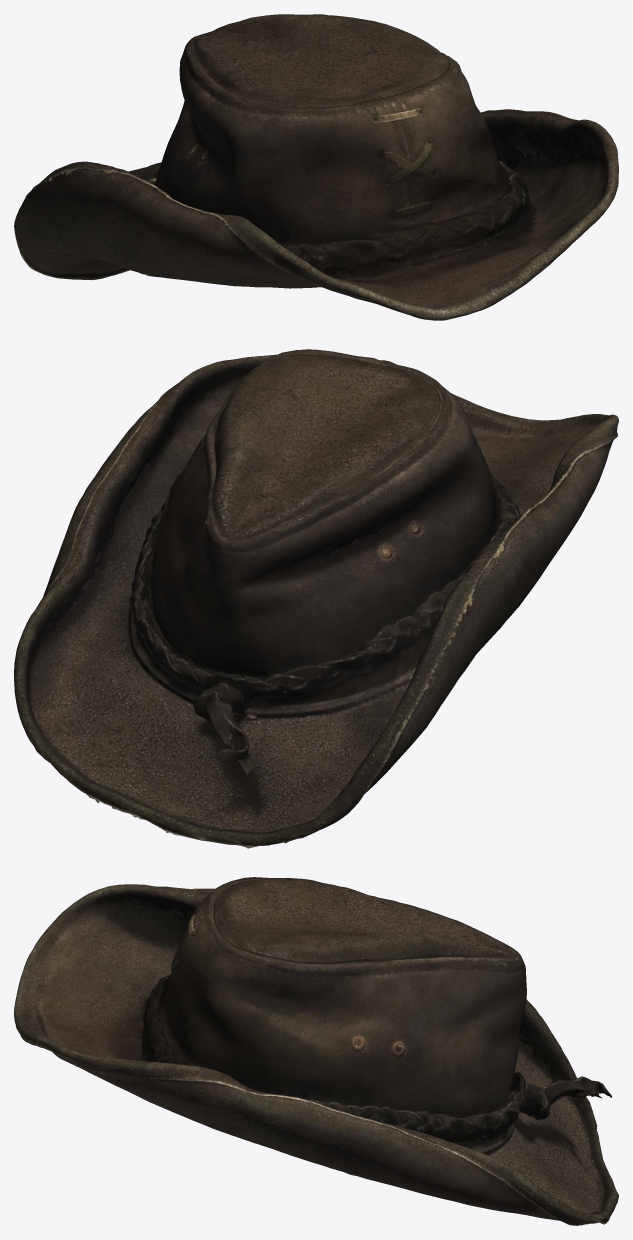
File: hat-web-v1.glb
The picture shows the model from 3 angles, top to bottom: view 1: azimuth 30°, elevation 25°; view 2: azimuth 150°, elevation 25°; view 3: azimuth 270°, elevation 25°; orthographic projection. The views are drawn at different scales.
Parts seen in each view (by area): view 1: Cowboy_Hat; view 2: Cowboy_Hat; view 3: Cowboy_Hat.
Boxes of the visible parts, <box> form: Cowboy_Hat: <box>14,14,618,320</box>; Cowboy_Hat: <box>14,349,618,848</box>; Cowboy_Hat: <box>14,877,618,1225</box>.
Bounding box in the file's own units: 2.44 × 1.7 × 3.16.
Materials: 1 (1 with a texture image).
